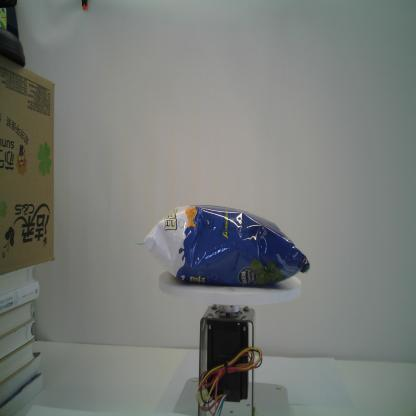Puffed Food: (134, 202, 312, 288)
